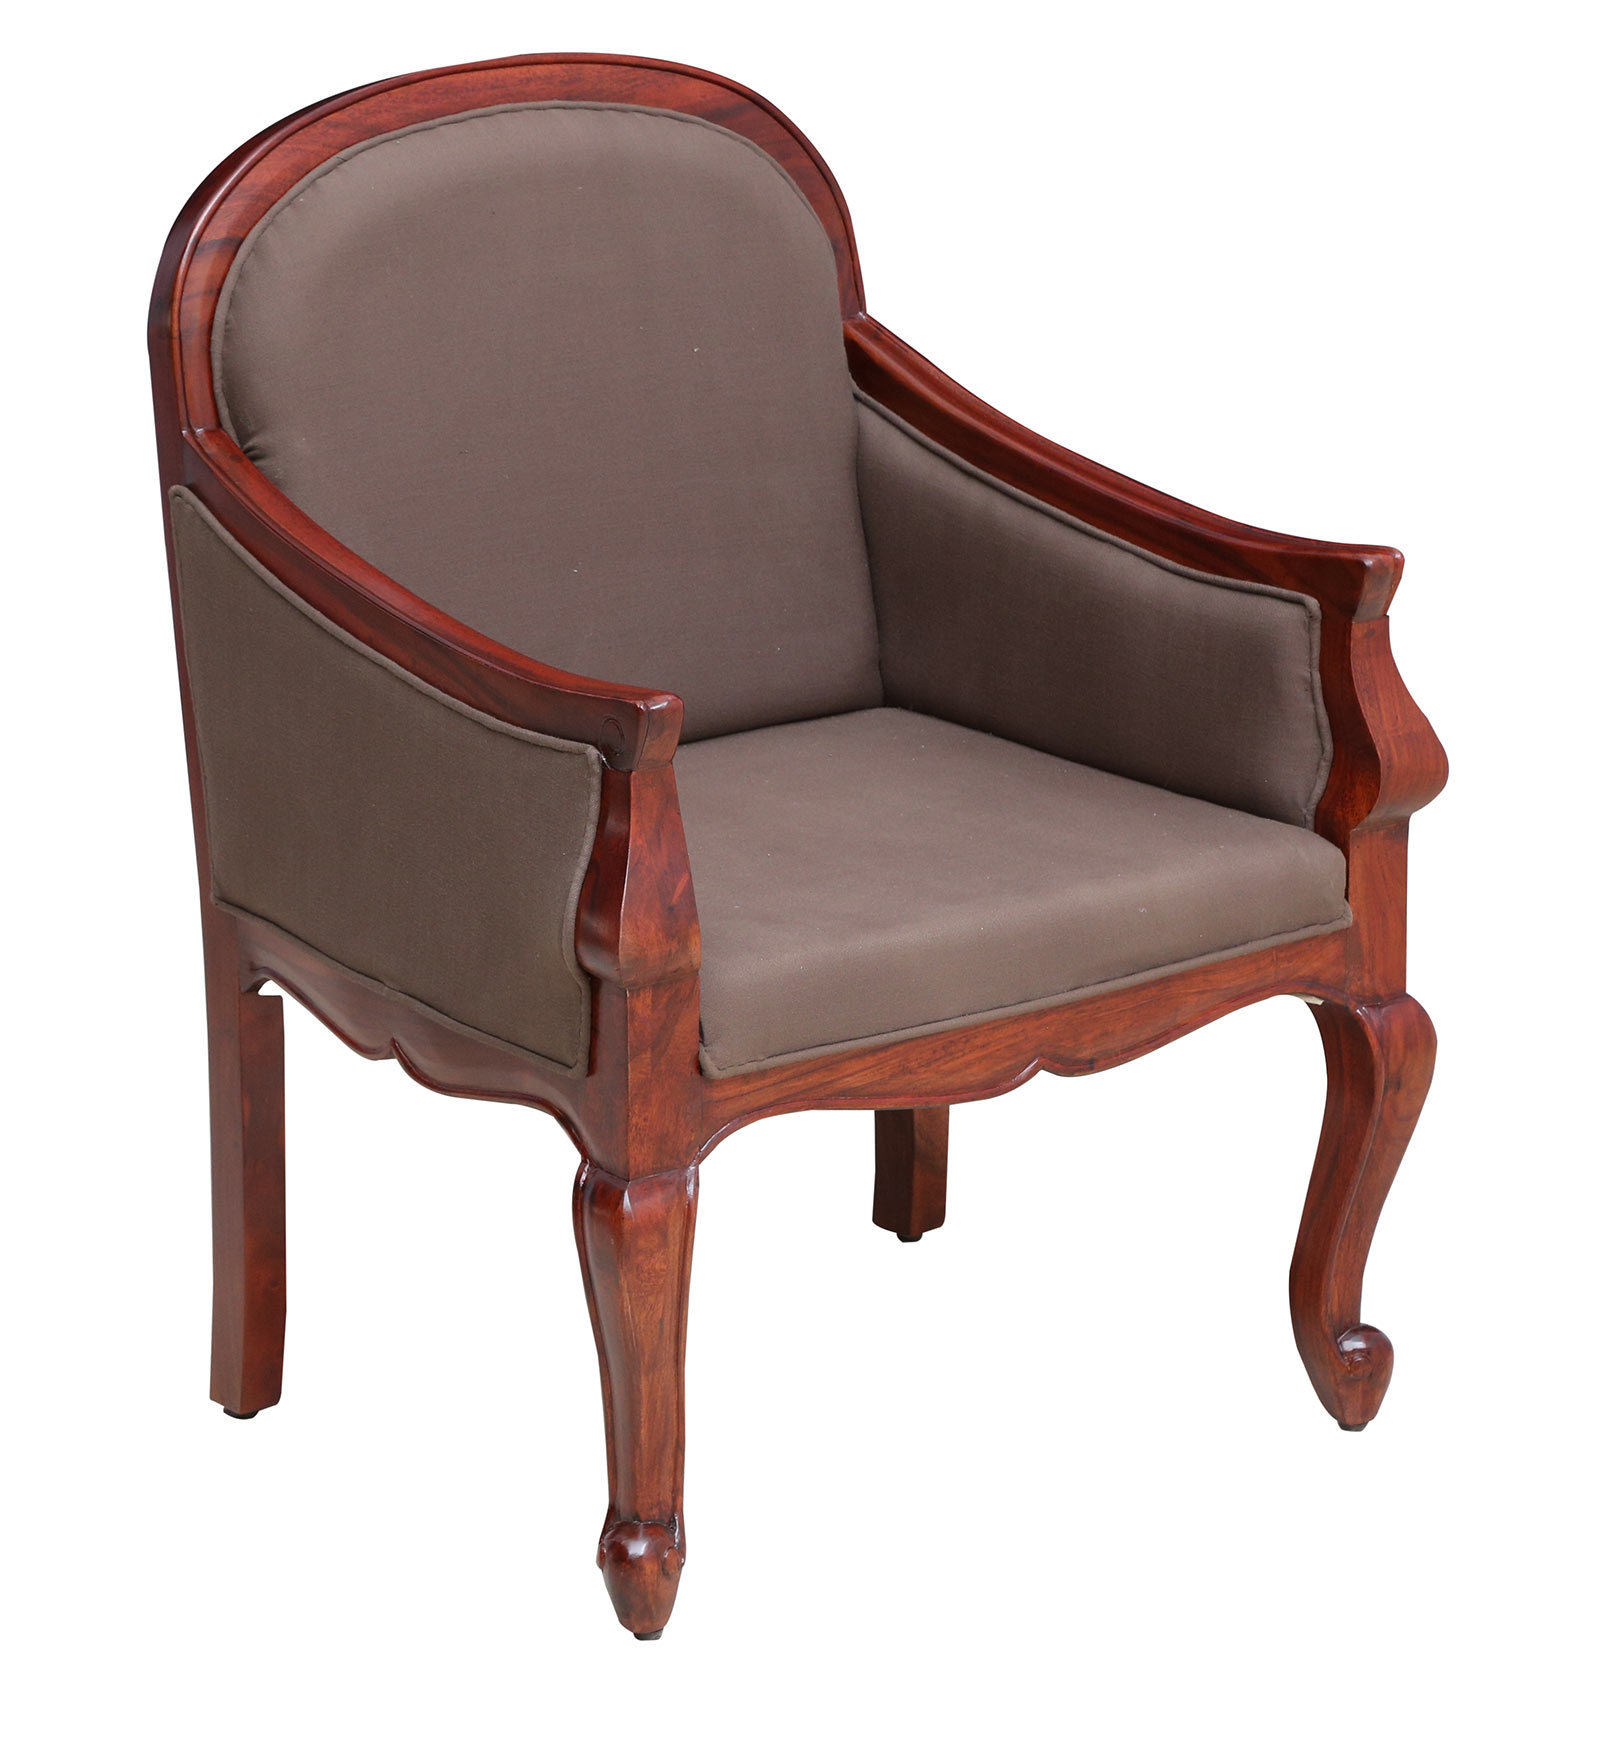Clifford Arm Chair in Honey Oak Finish by Amberville: (95, 41, 1427, 1660)
